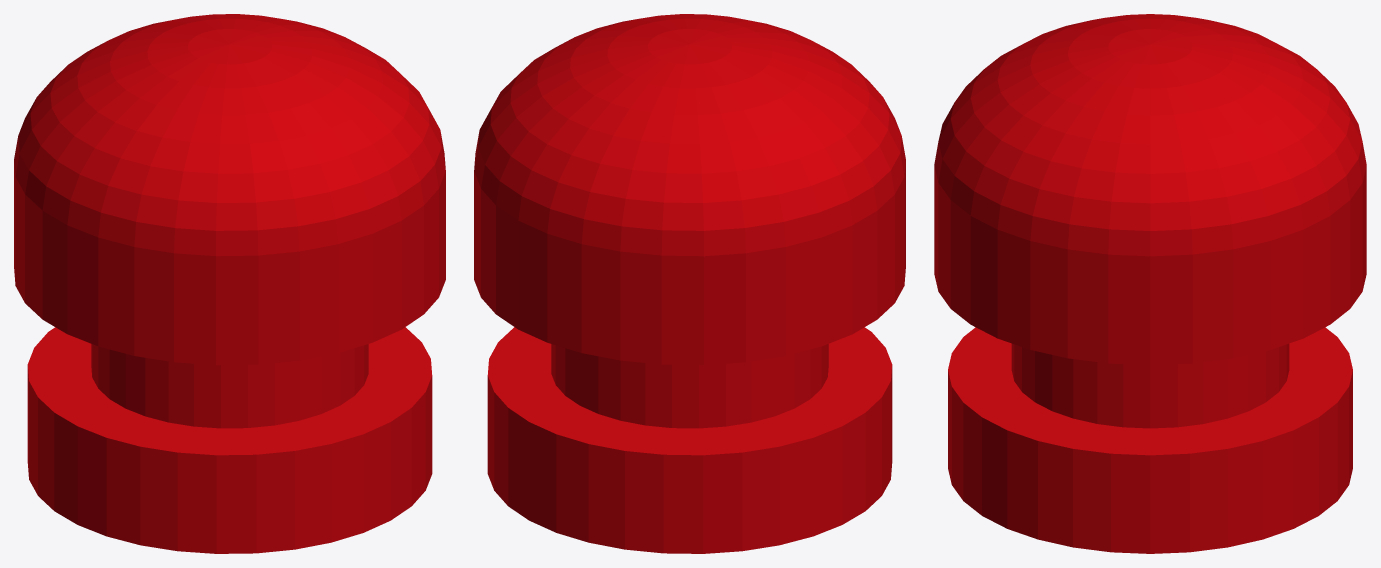
Rendered from bumper01.fbx.
The picture shows the model from 3 angles, left to right: view 1: azimuth 30°, elevation 25°; view 2: azimuth 150°, elevation 25°; view 3: azimuth 270°, elevation 25°; orthographic projection.
Parts seen in each view (by area): view 1: bumper; view 2: bumper; view 3: bumper.
Boxes of the visible parts, x1=… form: bumper: x1=14, y1=14, x2=445, y2=553; bumper: x1=474, y1=14, x2=905, y2=553; bumper: x1=934, y1=14, x2=1366, y2=553.
Size of the model in its own units: 94.49 by 102 by 94.49.
